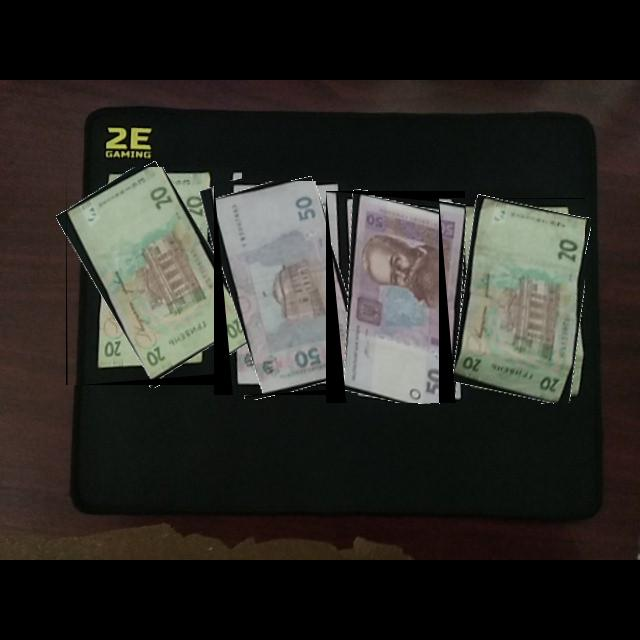20uah: (66, 167, 243, 381), (451, 199, 586, 404)
50uah: (215, 181, 347, 395), (342, 194, 466, 404)
